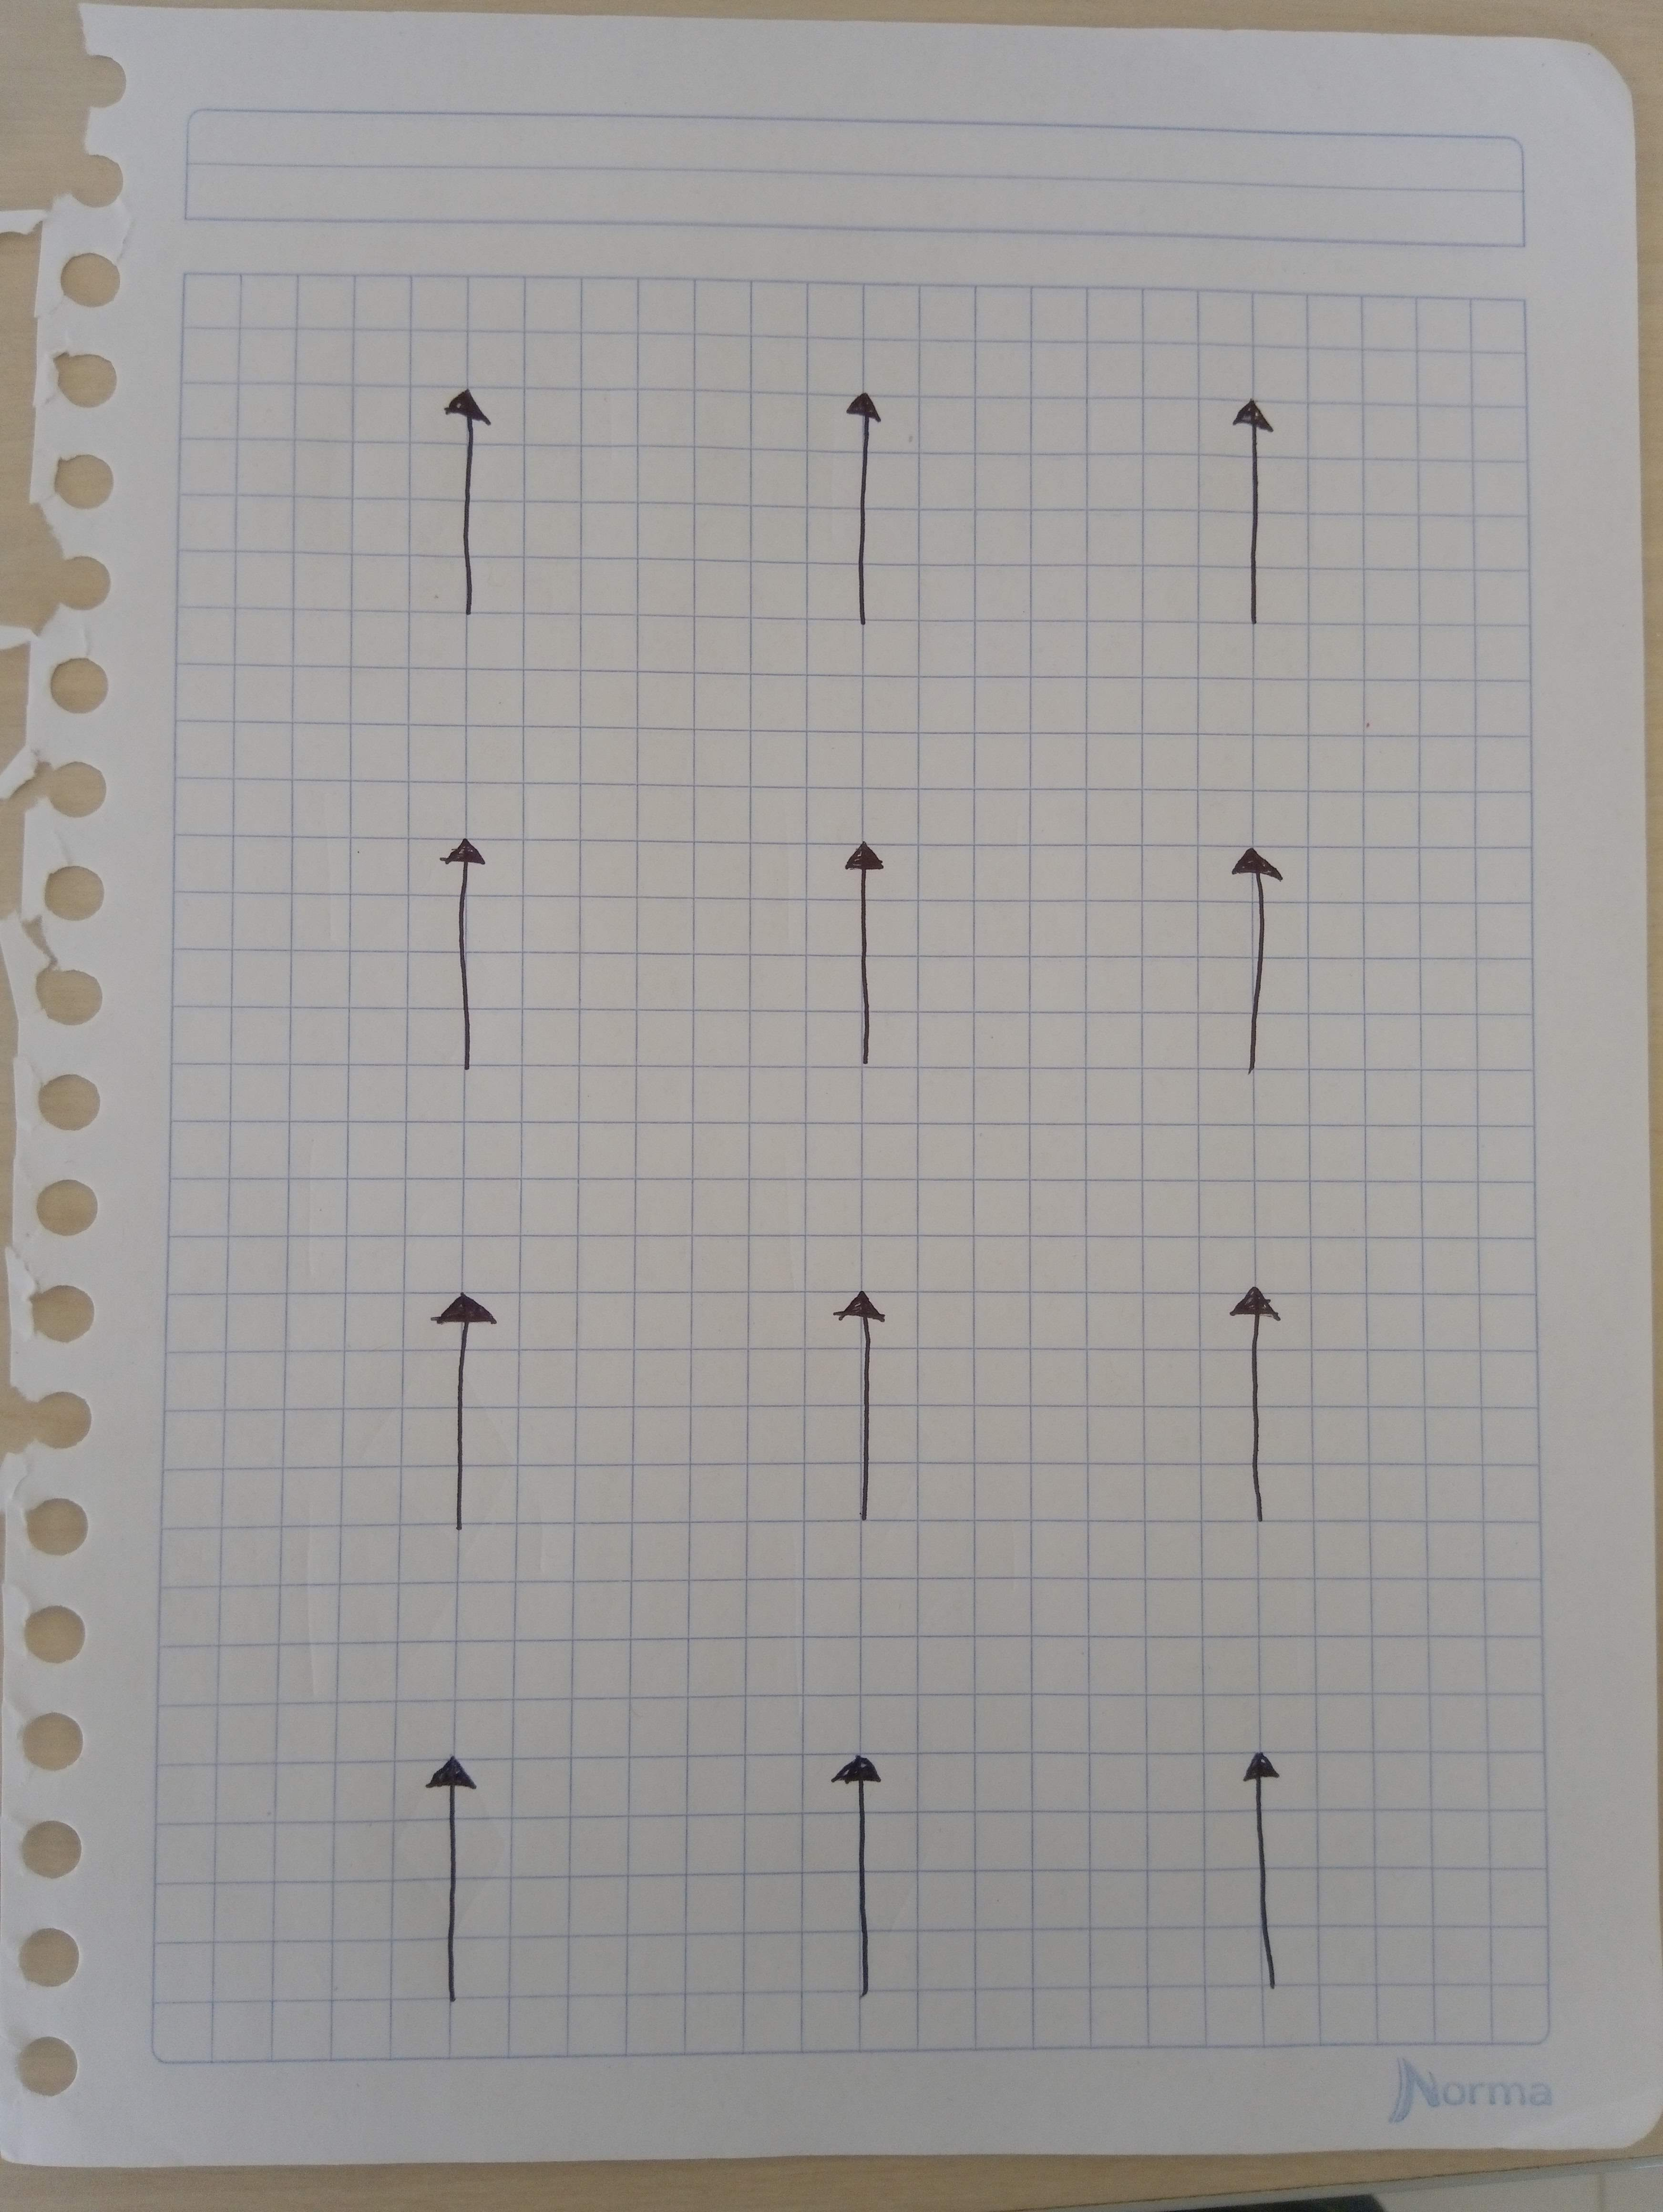arrow_line_up: (402, 821, 536, 1093), (804, 1741, 936, 2008), (412, 356, 514, 655), (1197, 821, 1301, 1096), (424, 1299, 517, 1604), (1216, 381, 1321, 648), (831, 396, 914, 697), (1219, 1290, 1312, 1554), (414, 1739, 498, 2027), (823, 1283, 910, 1545), (1232, 1739, 1314, 1987), (828, 826, 905, 1065)
